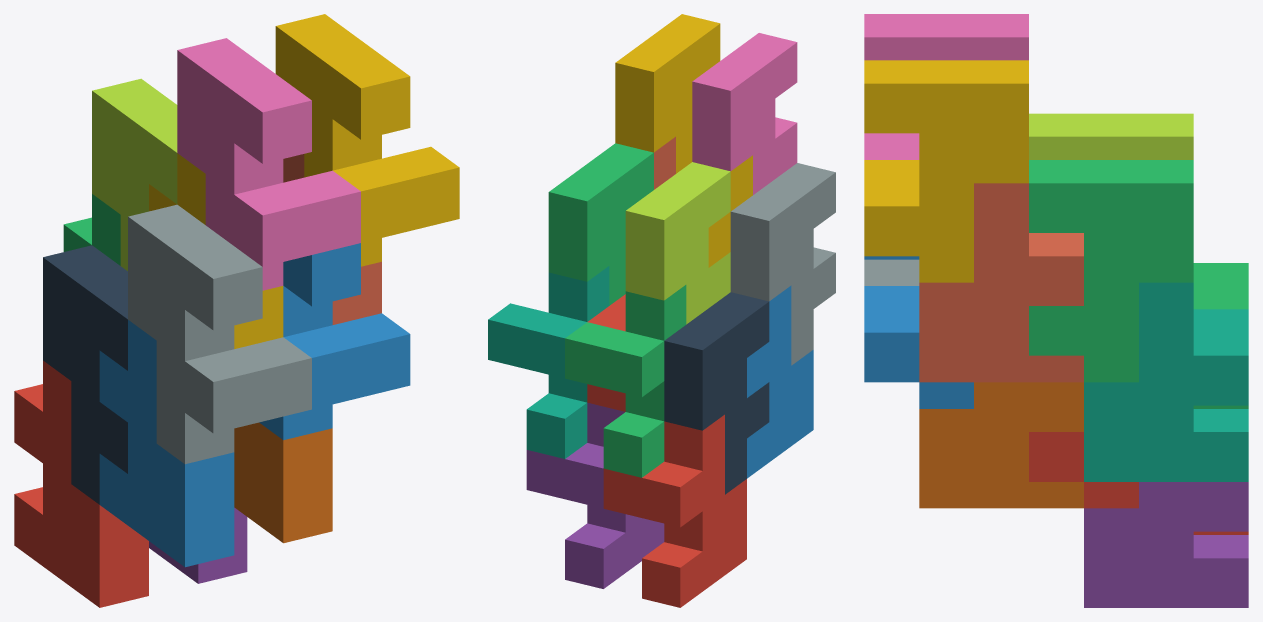
File: tiling.obj
3 renders of one model, left to right at view 1: azimuth 30°, elevation 25°; view 2: azimuth 150°, elevation 25°; view 3: azimuth 270°, elevation 25°, orthographic. The views are drawn at different scales.
Visible parts, largest first — view 1: copy_2_domain_2, copy_2_domain_4, copy_2_domain_8, copy_1_domain_2, copy_1_domain_1, copy_2_domain_1, copy_2_domain_6, copy_2_domain_3, copy_1_domain_6, copy_1_domain_4, copy_1_domain_8, copy_1_domain_3 (+1 smaller); view 2: copy_1_domain_1, copy_2_domain_2, copy_2_domain_1, copy_1_domain_3, copy_2_domain_4, copy_2_domain_3, copy_1_domain_7, copy_2_domain_7, copy_2_domain_8, copy_1_domain_5, copy_1_domain_2, copy_1_domain_4 (+2 smaller); view 3: copy_2_domain_8, copy_1_domain_7, copy_2_domain_7, copy_1_domain_8, copy_1_domain_5, copy_1_domain_6, copy_2_domain_4, copy_2_domain_3, copy_2_domain_6, copy_2_domain_5, copy_1_domain_3, copy_2_domain_2.
Boxes of the visible parts, x1,y1,x2,y2 form: copy_2_domain_2: (128, 204, 311, 464); copy_2_domain_4: (177, 38, 360, 290); copy_2_domain_8: (275, 14, 459, 266); copy_1_domain_2: (99, 320, 234, 567); copy_1_domain_1: (14, 360, 148, 607); copy_2_domain_1: (43, 245, 127, 504); copy_2_domain_6: (259, 243, 410, 440); copy_2_domain_3: (92, 78, 177, 270); copy_1_domain_6: (234, 422, 332, 543); copy_1_domain_4: (149, 153, 283, 348); copy_1_domain_8: (283, 154, 381, 324); copy_1_domain_3: (63, 194, 120, 265); copy_1_domain_1: (603, 414, 746, 607); copy_2_domain_2: (730, 163, 835, 365); copy_2_domain_1: (664, 292, 769, 494); copy_1_domain_3: (565, 285, 686, 477); copy_2_domain_4: (692, 33, 797, 194); copy_2_domain_3: (625, 162, 730, 324); copy_1_domain_7: (488, 266, 609, 458); copy_2_domain_7: (548, 143, 653, 305); copy_2_domain_8: (615, 14, 720, 173); copy_1_domain_5: (526, 402, 664, 588); copy_1_domain_2: (747, 285, 813, 478); copy_1_domain_4: (708, 155, 752, 267); copy_2_domain_8: (864, 60, 1028, 282); copy_1_domain_7: (1084, 282, 1248, 481); copy_2_domain_7: (1029, 160, 1193, 382); copy_1_domain_8: (919, 183, 1083, 382); copy_1_domain_5: (1084, 482, 1248, 607); copy_1_domain_6: (919, 382, 1083, 508); copy_2_domain_4: (864, 14, 1028, 159); copy_2_domain_3: (1029, 113, 1193, 159); copy_2_domain_6: (864, 256, 973, 408); copy_2_domain_5: (1029, 432, 1138, 508); copy_1_domain_3: (1193, 263, 1248, 408); copy_2_domain_2: (864, 259, 919, 285).
Bounding box in the file's own units: 5 × 11 × 7.
